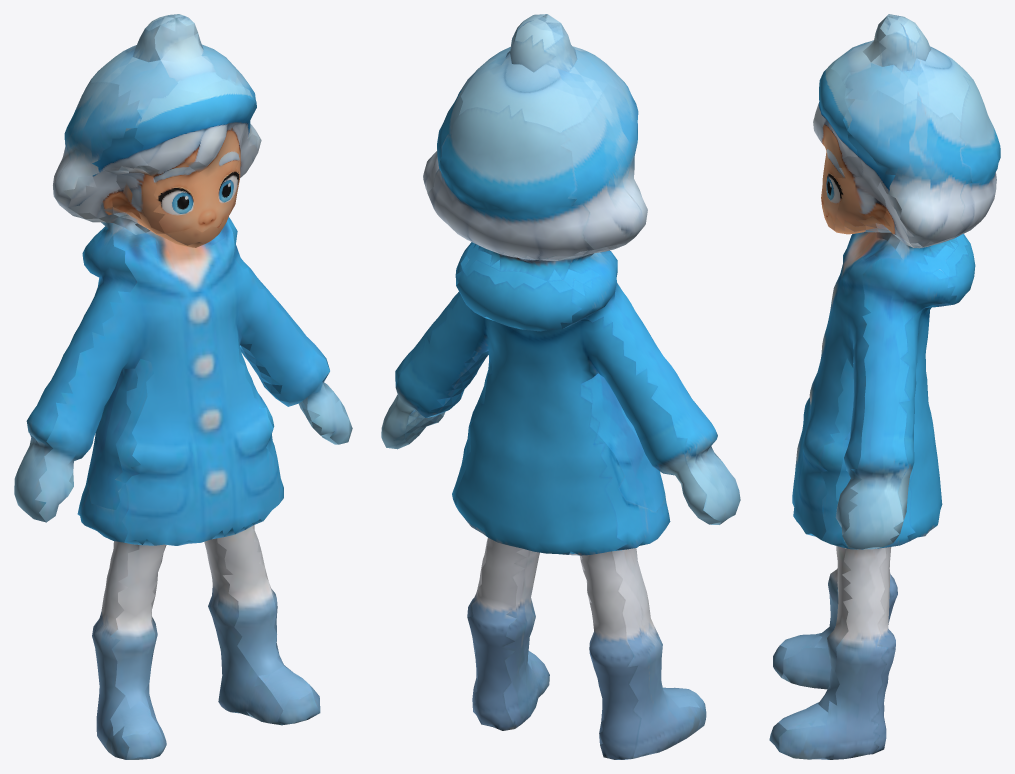
File: snow-cloud-toon.glb
The picture shows the model from 3 angles, left to right: view 1: azimuth 30°, elevation 25°; view 2: azimuth 150°, elevation 25°; view 3: azimuth 270°, elevation 25°; orthographic projection. The views are drawn at different scales.
Visible parts, largest first — view 1: world; view 2: world; view 3: world.
Part boxes in pixels (<box>): world: <box>14,14,352,759</box>; world: <box>381,14,740,759</box>; world: <box>769,14,1000,759</box>.
Size of the model in its own units: 0.4661 by 0.949 by 0.2819.
Materials: 1 (1 with a texture image).
